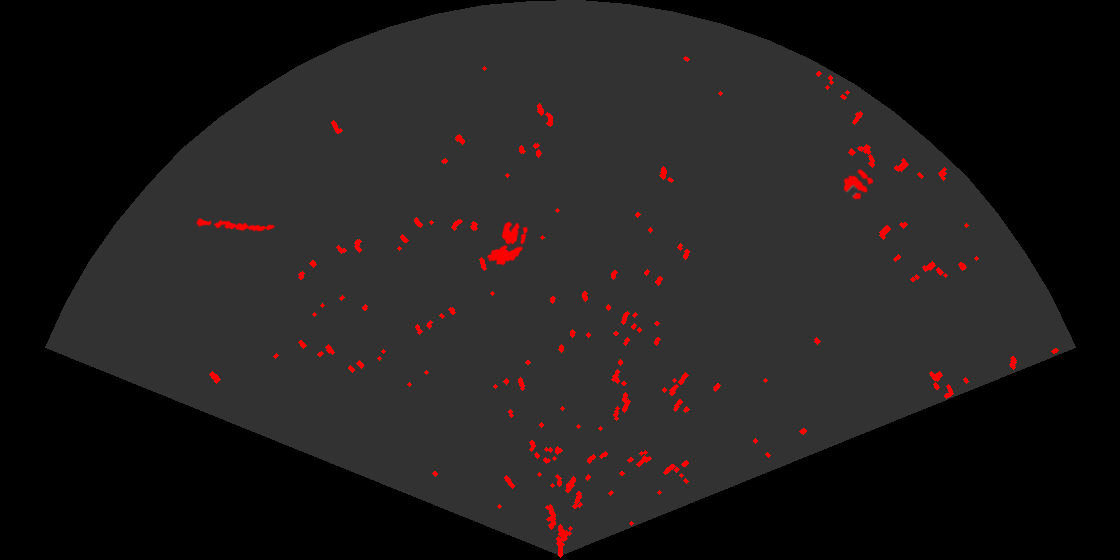AUV: (485, 243, 525, 267)
ball: (842, 168, 875, 201), (500, 220, 529, 246)
chain: (194, 217, 276, 233)
